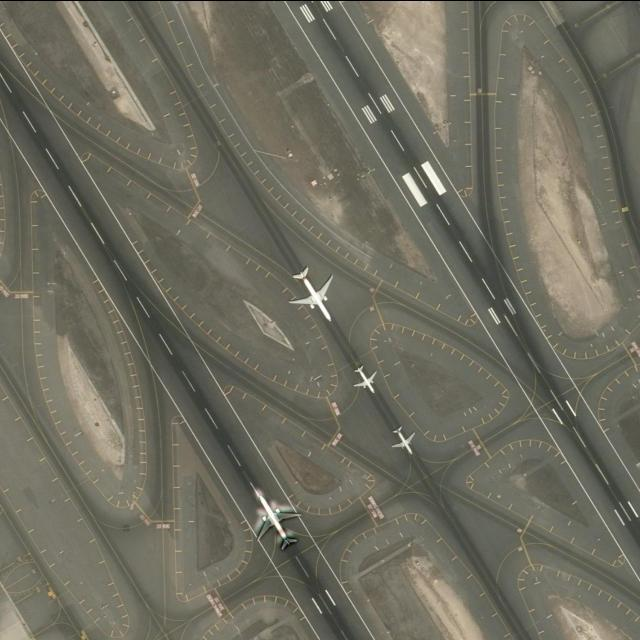Aircraft: (251, 483, 302, 552), (287, 262, 335, 320), (350, 361, 382, 393), (389, 424, 417, 454)
